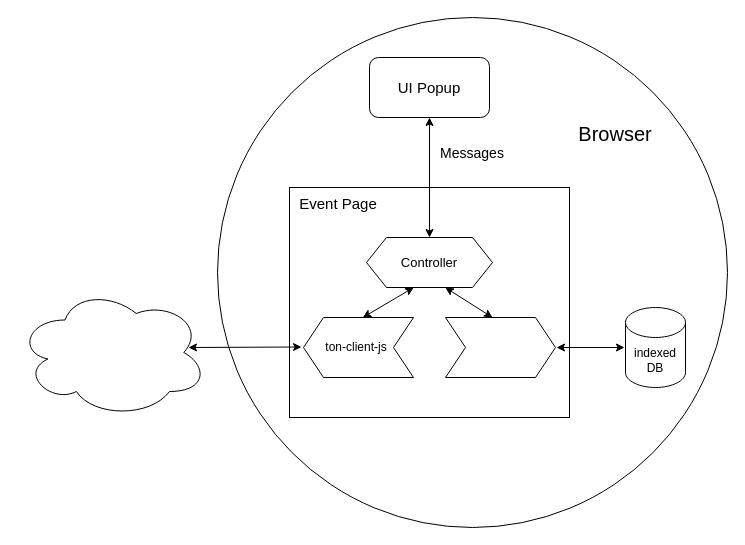
Some shapes in this 745 by 545 pixel diagram are drawn without their labels. The shapes that lost their labels are listed below. From the top down, each one's centre as x and y in pixels, then its label:
At point (112, 352): "DAPP Server".
At point (500, 347): "dexie.js".
